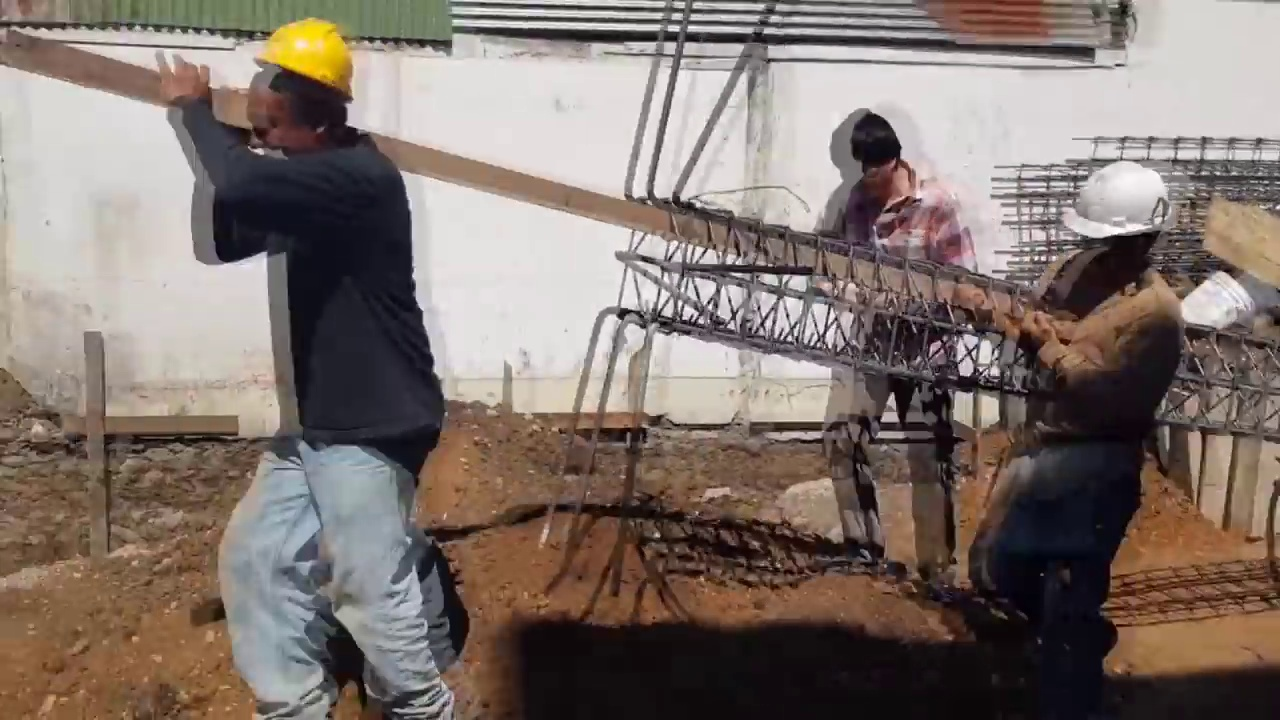helmet: (241, 16, 357, 104), (1079, 157, 1178, 238)
helmet-off: (826, 99, 901, 201)
helmet-on: (240, 8, 352, 161), (1060, 157, 1179, 282)
person: (162, 15, 456, 658), (968, 147, 1206, 720), (809, 106, 983, 642)
